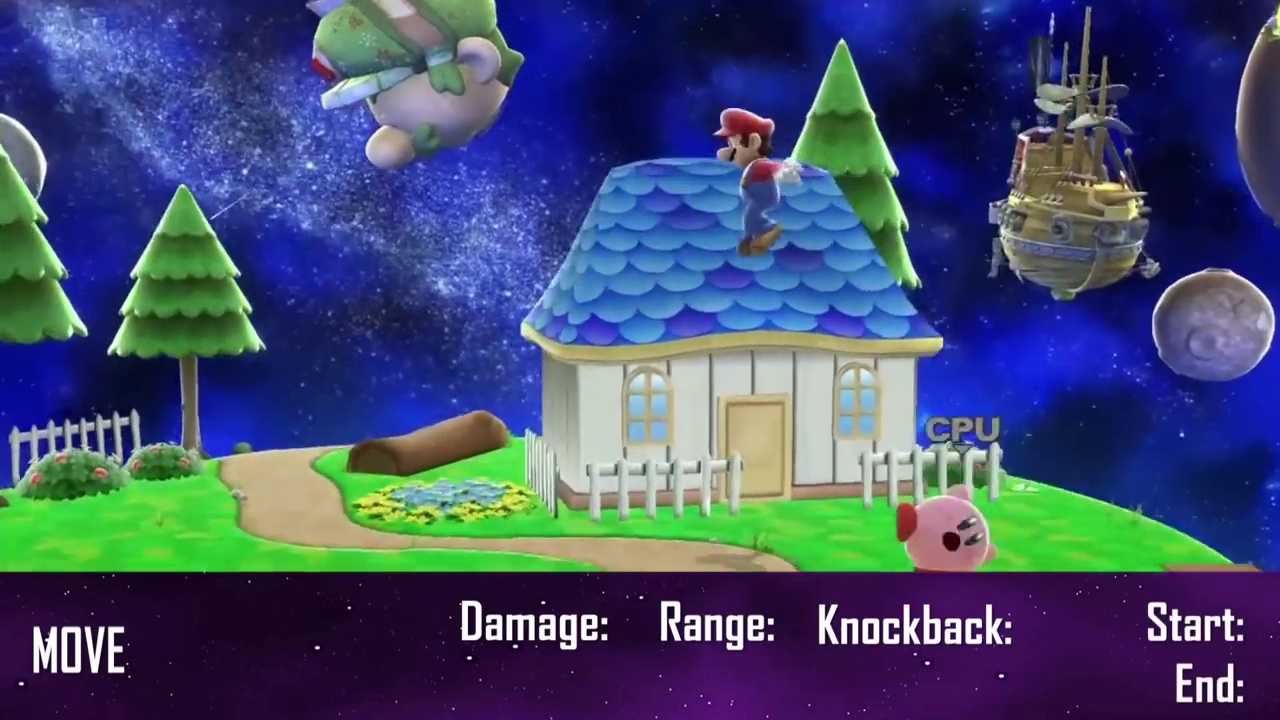Mario: (712, 107, 801, 257)
